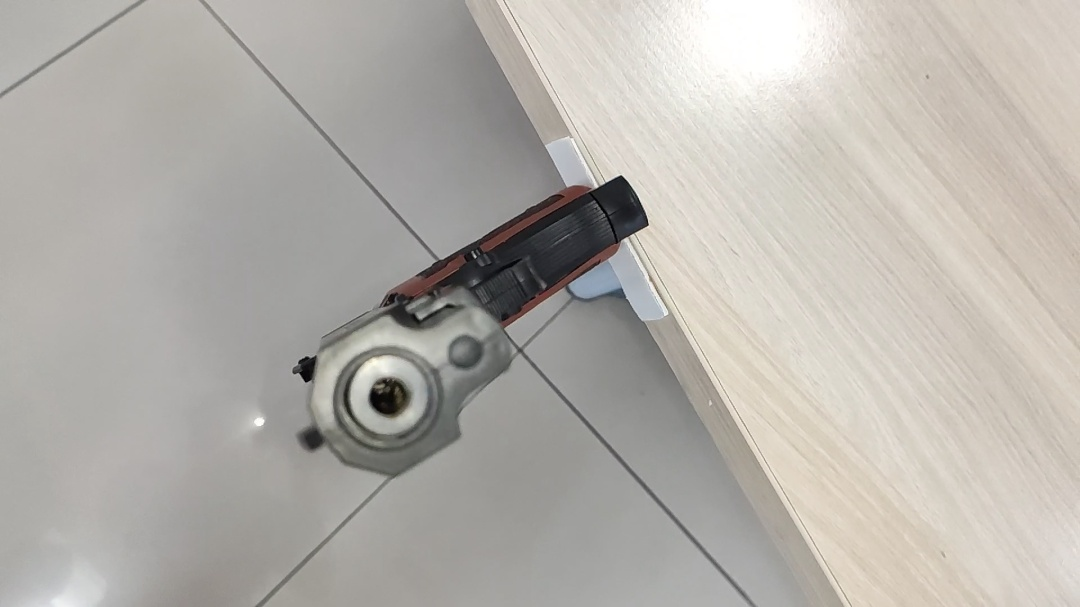gun: (295, 173, 651, 479)
